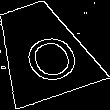O_N: (7, 19, 77, 82)
